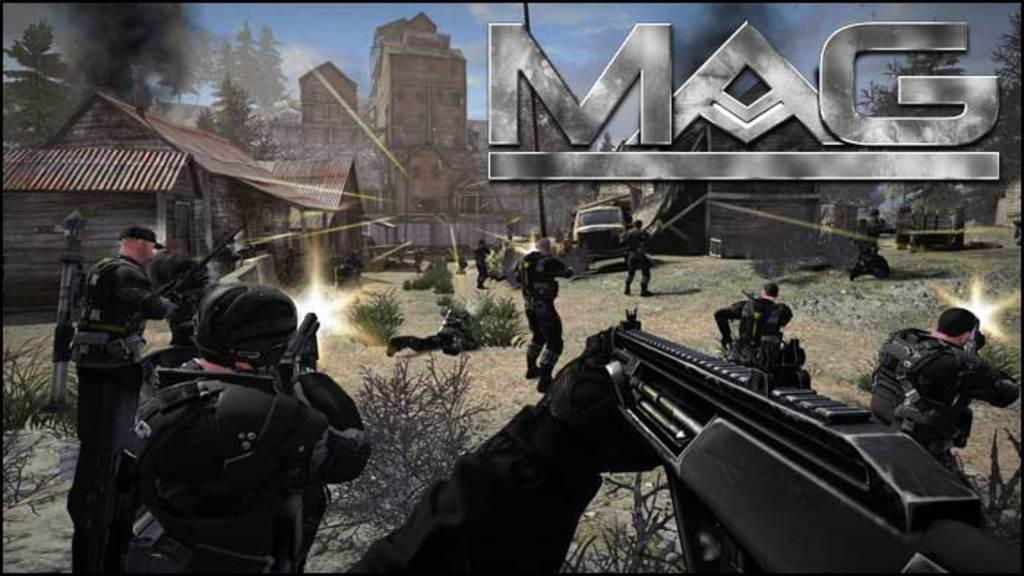Rifle: (585, 308, 1023, 575), (152, 221, 247, 322), (272, 310, 319, 395), (960, 325, 990, 357), (737, 285, 758, 303)
